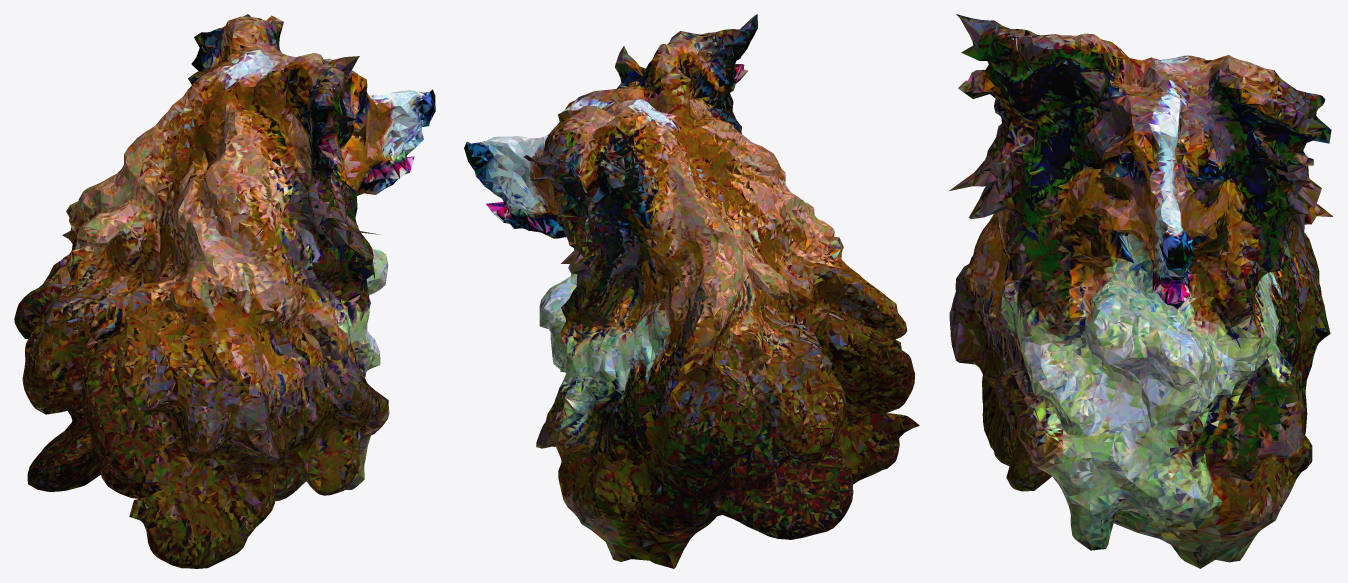
Rendered from dog-canny.glb.
3 renders of one model, left to right at view 1: azimuth 30°, elevation 25°; view 2: azimuth 150°, elevation 25°; view 3: azimuth 270°, elevation 25°, orthographic. The views are drawn at different scales.
Visible parts, largest first — view 1: extracted_mesh; view 2: extracted_mesh; view 3: extracted_mesh.
Part boxes in pixels (<box>): extracted_mesh: <box>14,14,435,568</box>; extracted_mesh: <box>464,14,919,568</box>; extracted_mesh: <box>949,14,1332,568</box>.
Size of the model in its own units: 1.21 by 1.38 by 0.8957.
Materials: 1 (1 with a texture image).
